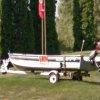Boat: (4, 46, 93, 84)
